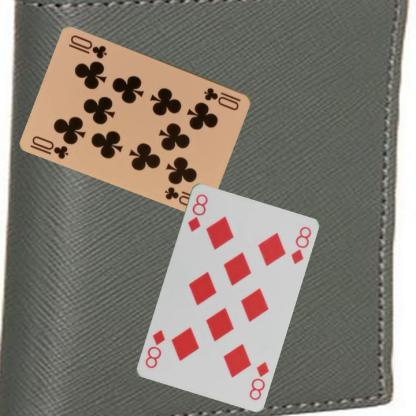10c: (28, 133, 70, 161), (201, 85, 243, 111)
8d: (246, 359, 271, 401), (185, 191, 209, 233)
